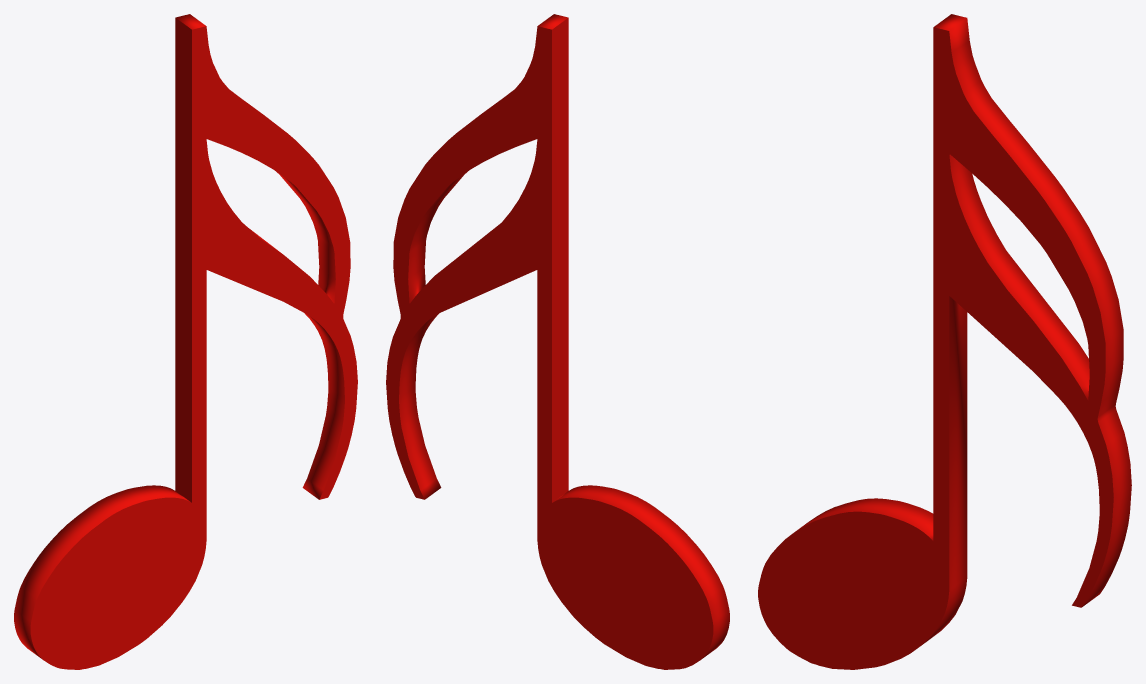
File: musicNote.fbx
The picture shows the model from 3 angles, left to right: view 1: azimuth 30°, elevation 25°; view 2: azimuth 150°, elevation 25°; view 3: azimuth 330°, elevation 25°; orthographic projection. The views are drawn at different scales.
Visible parts, largest first — view 1: Curve; view 2: Curve; view 3: Curve.
Part boxes in pixels (x1,y1,x2,y2): Curve: [14, 14, 357, 669]; Curve: [386, 14, 729, 669]; Curve: [758, 14, 1131, 669].
Bounding box in the file's own units: 56.94 × 102 × 5.
